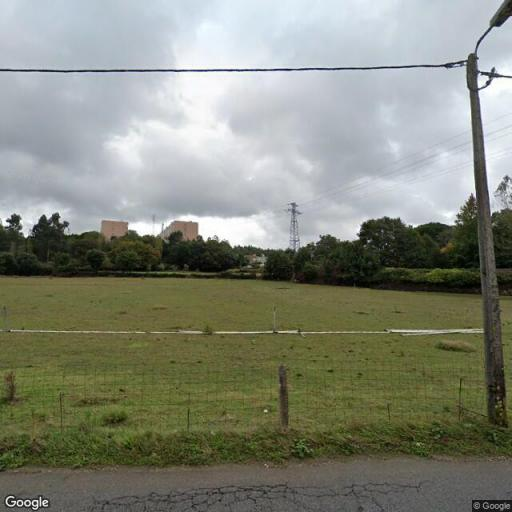ss_2: (285, 199, 304, 250)
